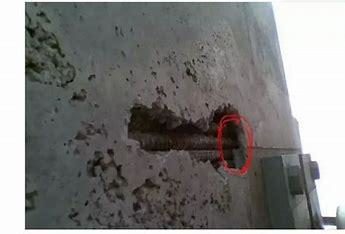Exposed reinforcement: (127, 130, 239, 149), (188, 149, 233, 162)
Spalling: (25, 3, 249, 229), (126, 101, 249, 173)
